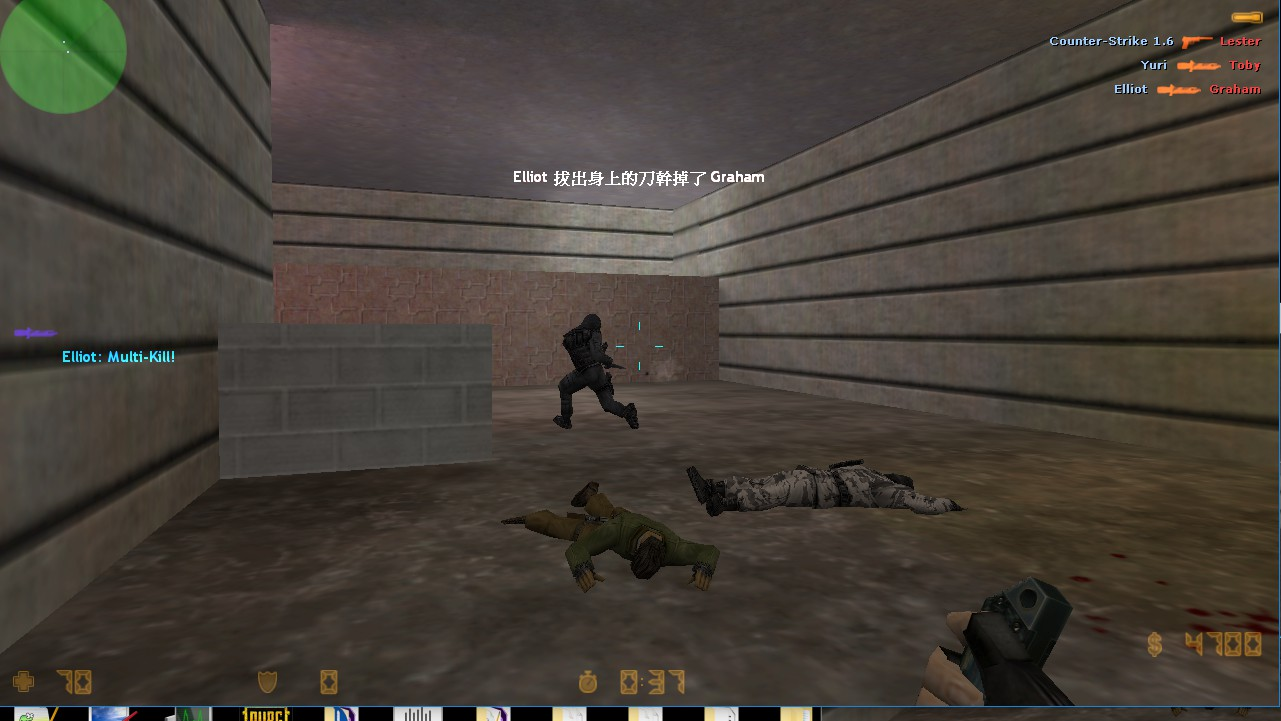person: (554, 305, 642, 436)
